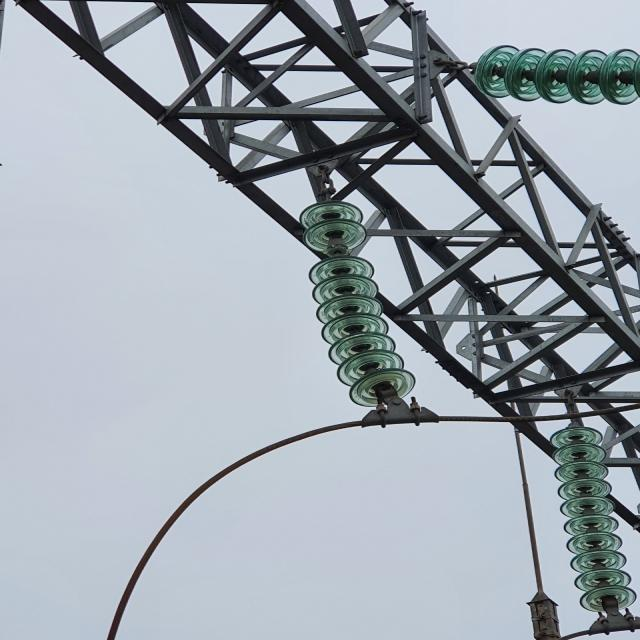杆塔: (0, 0, 638, 556)
正常绝缘子: (281, 186, 418, 420), (538, 400, 640, 619), (454, 34, 640, 110)
绝缘子破损: (323, 238, 352, 255)
